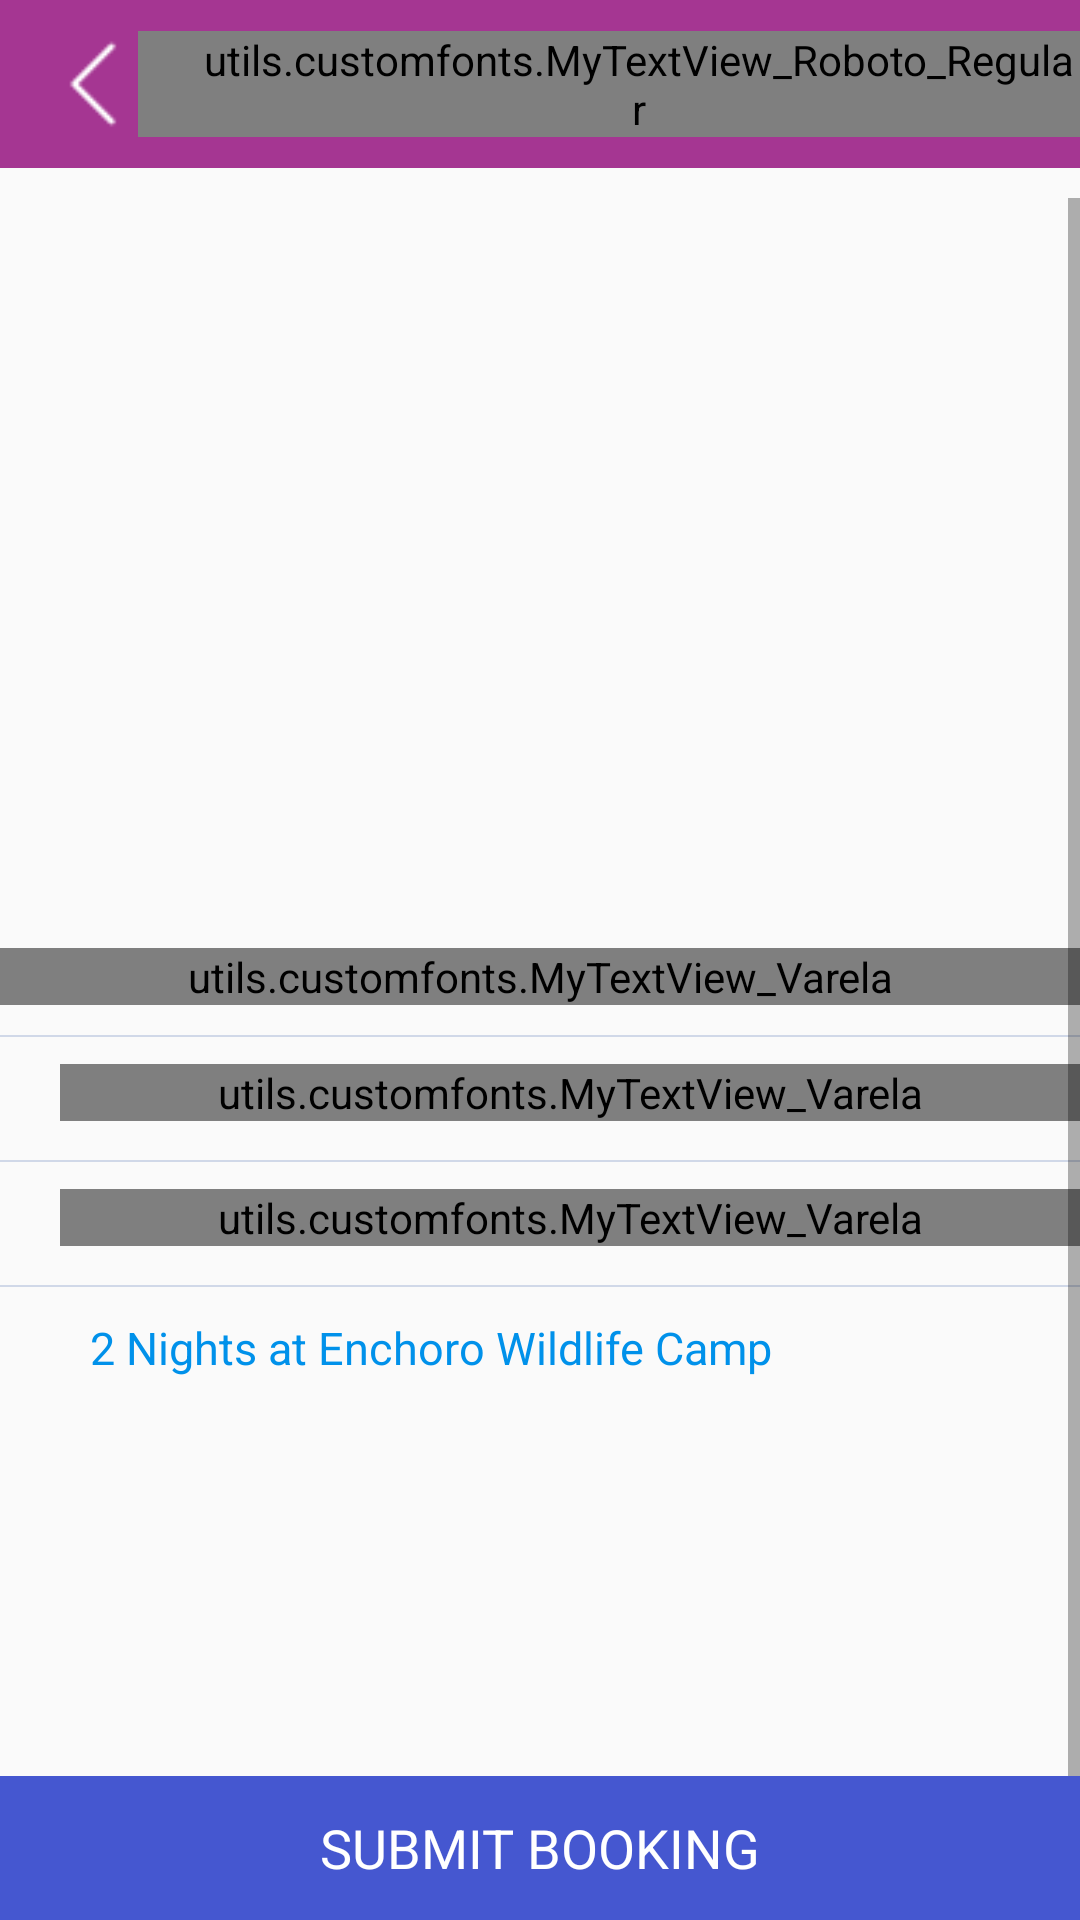

Point at icon controls on the screen. Image size 1080px x 1920px, points as (x=x, y=y).
left arrow: (x=93, y=84)
